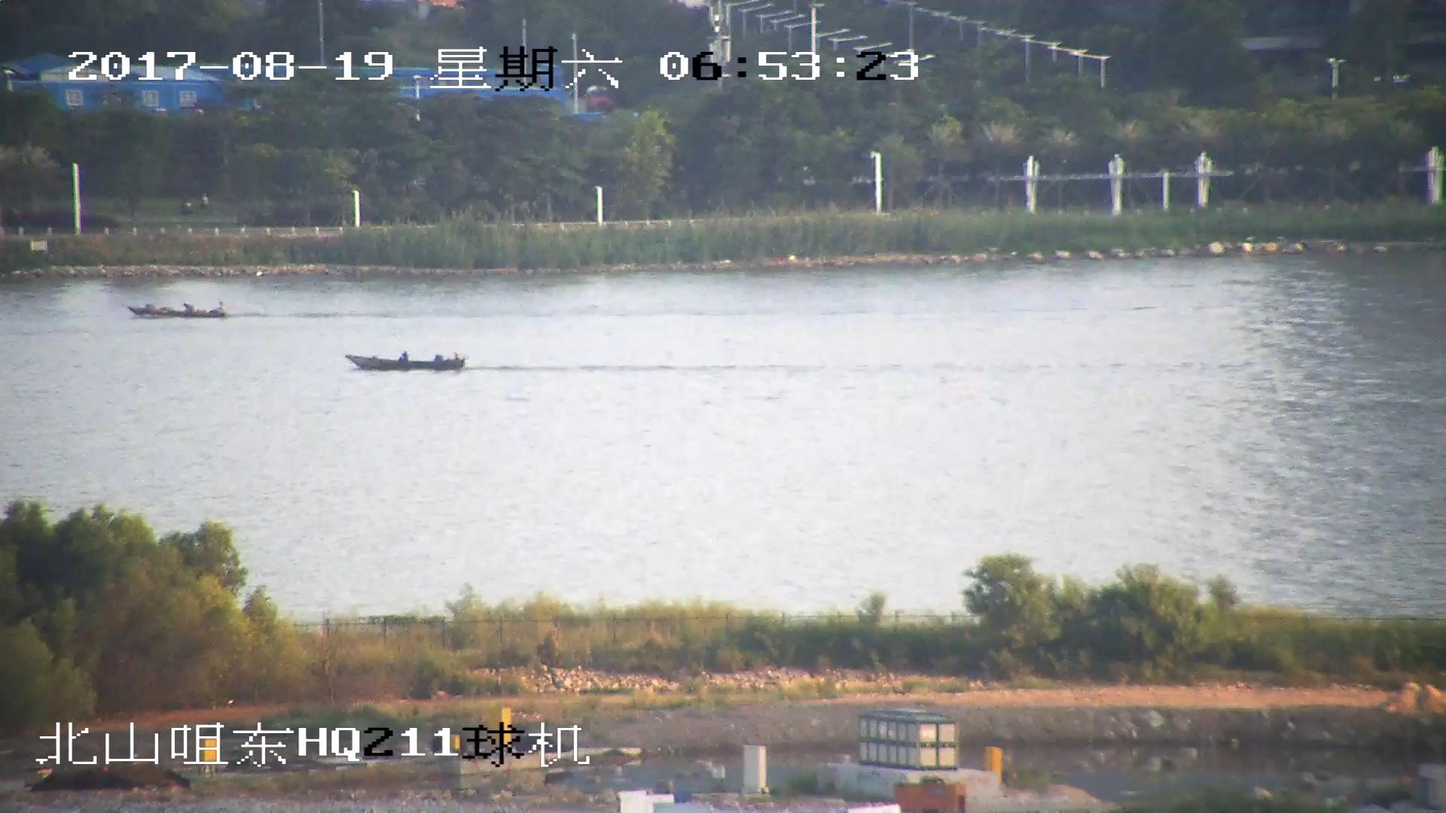fishing boat: (344, 349, 463, 372), (127, 299, 229, 318)
